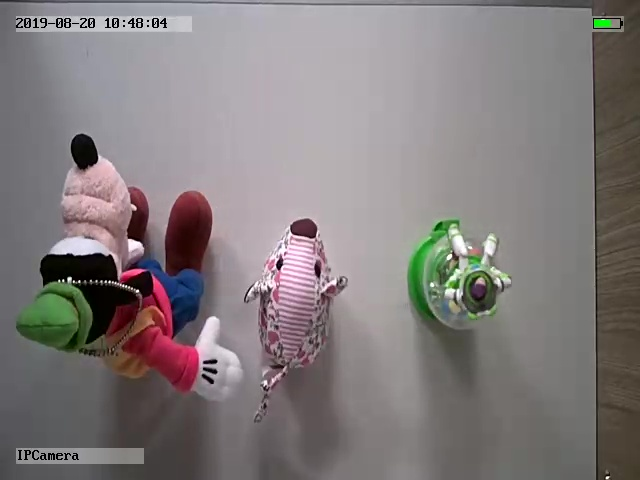buzz: (402, 216, 516, 337)
goofy: (16, 131, 245, 405)
pig: (245, 213, 352, 426)
